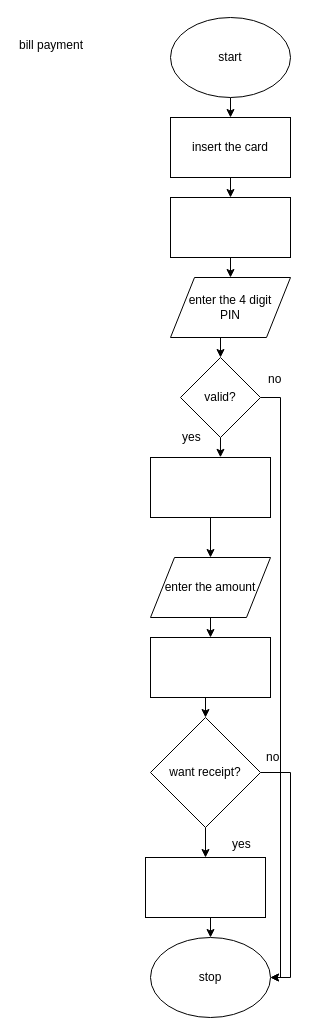
This 316x1035 diagram has some shape labels left out. The centre of each missing label's shape, as x and y in pixels:
choos the pay bills option from the menu: the point at 230,227
choose the account type: the point at 210,487
print receipt: the point at 205,887
tap pay it: the point at 210,667
